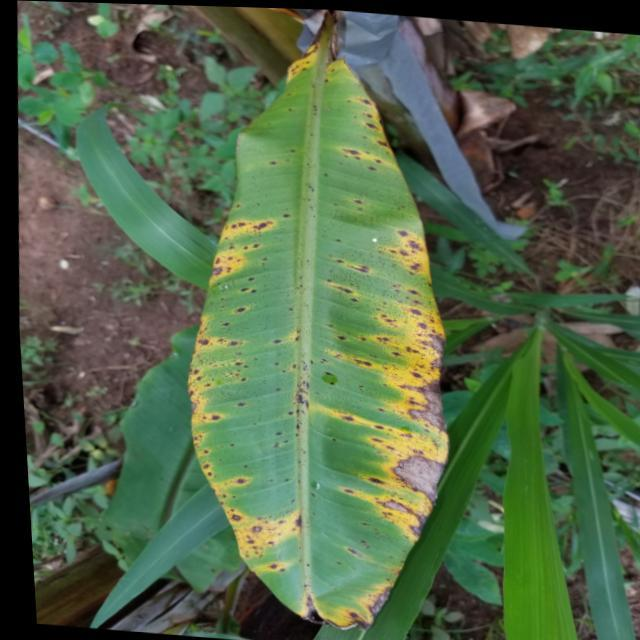Early_rust: (162, 22, 482, 640)
